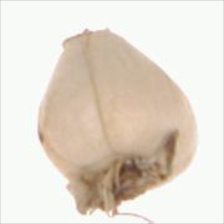L3: (59, 27, 115, 53)
L4: (37, 28, 199, 213)
